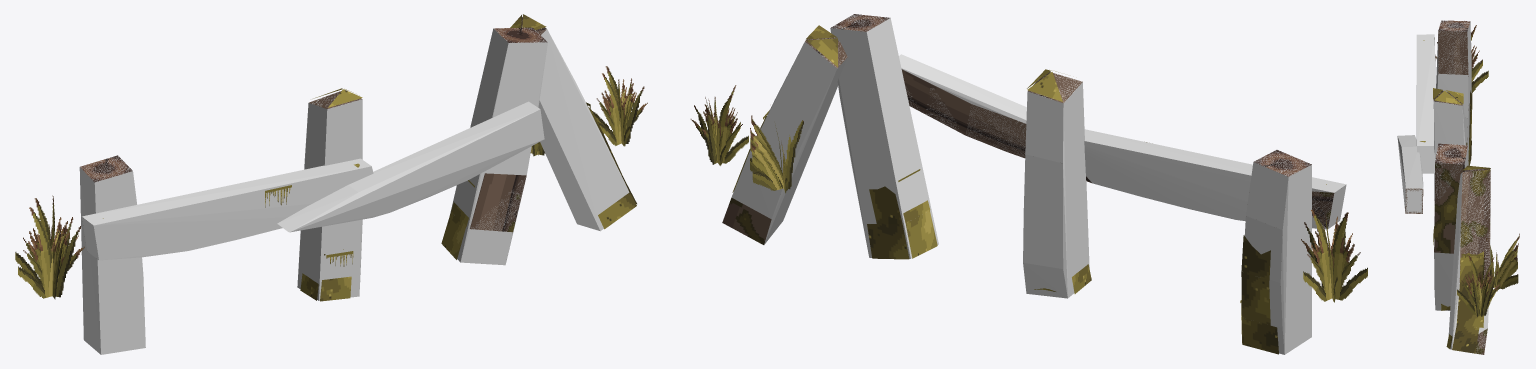
File: SM_SW19_WaterFenceBroken_Parts.fbx
The picture shows the model from 3 angles, left to right: view 1: azimuth 30°, elevation 25°; view 2: azimuth 150°, elevation 25°; view 3: azimuth 270°, elevation 25°; orthographic projection. The views are drawn at different scales.
Visible parts, largest first — view 1: SW19c_Rail_1_COL, SW19c_Rail_2_COL, SW19c_Post_4_COL, SW19c_Post_1_COL, SW19c_Post_3_COL, SW19c_Post_2_COL, SW19c_Grass, SW19c_Post_3, SW19c_Post_2, SW19c_Post_4, SW19c_Post_1; view 2: SW19c_Post_3_COL, SW19c_Post_2_COL, SW19c_Rail_1_COL, SW19c_Post_1_COL, SW19c_Post_4_COL, SW19c_Grass, SW19c_Rail_2, SW19c_Post_3, SW19c_Post_1, SW19c_Rail_2_COL, SW19c_Post_4, SW19c_Post_2 (+1 smaller); view 3: SW19c_Post_4, SW19c_Post_3, SW19c_Grass, SW19c_Rail_1_COL, SW19c_Post_4_COL, SW19c_Post_1, SW19c_Post_1_COL, SW19c_Post_3_COL, SW19c_Rail_2_COL, SW19c_Post_2_COL, SW19c_Post_2, SW19c_Rail_2.
Boxes of the visible parts, <box> form: SW19c_Rail_1_COL: <box>81,158,373,260</box>; SW19c_Rail_2_COL: <box>277,101,544,232</box>; SW19c_Post_4_COL: <box>522,26,629,231</box>; SW19c_Post_1_COL: <box>79,156,145,354</box>; SW19c_Post_3_COL: <box>450,27,547,265</box>; SW19c_Post_2_COL: <box>297,91,362,300</box>; SW19c_Grass: <box>15,66,647,299</box>; SW19c_Post_3: <box>441,27,547,259</box>; SW19c_Post_2: <box>300,88,362,301</box>; SW19c_Post_4: <box>510,14,636,229</box>; SW19c_Post_1: <box>80,155,132,182</box>; SW19c_Post_3_COL: <box>830,14,938,258</box>; SW19c_Post_2_COL: <box>1023,74,1089,298</box>; SW19c_Rail_1_COL: <box>1084,129,1346,229</box>; SW19c_Post_1_COL: <box>1244,150,1311,354</box>; SW19c_Post_4_COL: <box>728,37,847,244</box>; SW19c_Grass: <box>690,85,1367,302</box>; SW19c_Rail_2: <box>901,69,1026,158</box>; SW19c_Post_3: <box>831,14,937,259</box>; SW19c_Post_1: <box>1241,150,1311,354</box>; SW19c_Rail_2_COL: <box>899,54,1026,156</box>; SW19c_Post_4: <box>722,25,847,244</box>; SW19c_Post_2: <box>1027,69,1091,293</box>; SW19c_Post_4: <box>1446,165,1490,354</box>; SW19c_Post_3: <box>1434,143,1467,310</box>; SW19c_Grass: <box>1435,25,1519,316</box>; SW19c_Rail_1_COL: <box>1416,34,1435,173</box>; SW19c_Post_4_COL: <box>1448,169,1490,350</box>; SW19c_Post_1: <box>1438,20,1472,165</box>; SW19c_Post_1_COL: <box>1436,20,1471,159</box>; SW19c_Post_3_COL: <box>1434,144,1468,310</box>; SW19c_Rail_2_COL: <box>1397,135,1423,213</box>; SW19c_Post_2_COL: <box>1433,93,1466,200</box>; SW19c_Post_2: <box>1433,88,1463,244</box>; SW19c_Rail_2: <box>1405,188,1423,213</box>.
Bounding box in the file's own units: 3.92 × 1.31 × 0.8527.
